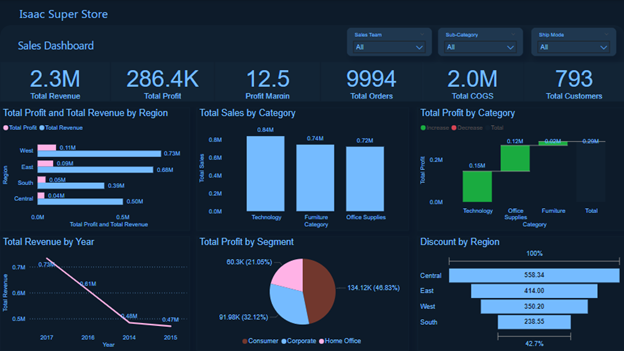

Layout of this report page (visuals, bound fields, positions):
{"tool":"powerbi","page":{"name":"Page 1","canvas":[1280,720],"ordinal":0},"visuals":[{"type":"card","fields":{"Values":["Key Measures.Total Revenue"]},"box":[0,126.4,226.3,82.3],"z":0},{"type":"clusteredBarChart","fields":{"Category":["Location.Region"],"Y":["Key Measures.Total Profit","Key Measures.Total Revenue"]},"box":[0,220.4,389.4,252.7],"z":1000},{"type":"shape","box":[0,51.4,1279.8,74.9],"z":2000},{"type":"shape","box":[0,2.9,1279.8,48.5],"z":3000},{"type":"card","fields":{"Values":["Key Measures.Total Profit"]},"box":[226.3,126.4,213.1,82.3],"z":4000},{"type":"card","fields":{"Values":["Key Measures.Profit Margin"]},"box":[439.3,126.4,217.5,82.3],"z":5000},{"type":"card","fields":{"Values":["Key Measures.Total Orders"]},"box":[656.8,126.4,208.7,82.3],"z":6000},{"type":"card","fields":{"Values":["Key Measures.Total COGS"]},"box":[864,126.4,208.7,82.3],"z":7000},{"type":"card","fields":{"Values":["Key Measures.Total Customers"]},"box":[1072.7,126.4,207.2,82.3],"z":8000},{"type":"lineChart","fields":{"Y":["Key Measures.Total Revenue"],"Category":["Orders.Sales Year"]},"box":[0,484.9,389.4,235.1],"z":9000},{"type":"clusteredColumnChart","fields":{"Y":["Key Measures.Total Revenue"],"Category":["Product.Category"]},"box":[402.6,220.4,434.9,252.7],"z":10000},{"type":"waterfallChart","fields":{"Category":["Product.Category"],"Y":["Key Measures.Total Profit"]},"box":[855.2,220.4,424.7,252.7],"z":11000},{"type":"pieChart","fields":{"Category":["Customers.Segment"],"Y":["Key Measures.Total Profit"]},"box":[402.6,484.9,434.9,235.1],"z":12000},{"type":"funnel","title":"Discount by Region","fields":{"Category":["Location.Region"],"Y":["Orders.Discount"]},"box":[855,485,425,235],"z":13000},{"type":"slicer","fields":{"Values":["Sales.Sales Team"]},"box":[709.7,55.8,176.3,60.2],"z":14000},{"type":"slicer","fields":{"Values":["Product.Sub-Category"]},"box":[896.3,55.8,176.3,60.2],"z":15000},{"type":"slicer","fields":{"Values":["Orders.Ship Mode"]},"box":[1087.3,55.8,176.3,60.2],"z":16000}]}

Visuals, with their boxes in screenshot pixels (x1, y1, x2, y2), scaled from the page's 1280x720 canvas onto the 624x351 screenshot:
card - Key Measures.Total Revenue: [left=0, top=62, right=110, bottom=102]
clusteredBarChart - Location.Region x Key Measures.Total Profit: [left=0, top=107, right=190, bottom=231]
shape: [left=0, top=25, right=623, bottom=62]
shape: [left=0, top=1, right=623, bottom=25]
card - Key Measures.Total Profit: [left=110, top=62, right=214, bottom=102]
card - Key Measures.Profit Margin: [left=214, top=62, right=320, bottom=102]
card - Key Measures.Total Orders: [left=320, top=62, right=422, bottom=102]
card - Key Measures.Total COGS: [left=421, top=62, right=523, bottom=102]
card - Key Measures.Total Customers: [left=523, top=62, right=623, bottom=102]
lineChart - Key Measures.Total Revenue x Orders.Sales Year: [left=0, top=236, right=190, bottom=350]
clusteredColumnChart - Key Measures.Total Revenue x Product.Category: [left=196, top=107, right=408, bottom=231]
waterfallChart - Product.Category x Key Measures.Total Profit: [left=417, top=107, right=623, bottom=231]
pieChart - Customers.Segment x Key Measures.Total Profit: [left=196, top=236, right=408, bottom=350]
"Discount by Region" funnel: [left=417, top=236, right=623, bottom=350]
slicer - Sales.Sales Team: [left=346, top=27, right=432, bottom=57]
slicer - Product.Sub-Category: [left=437, top=27, right=523, bottom=57]
slicer - Orders.Ship Mode: [left=530, top=27, right=616, bottom=57]
